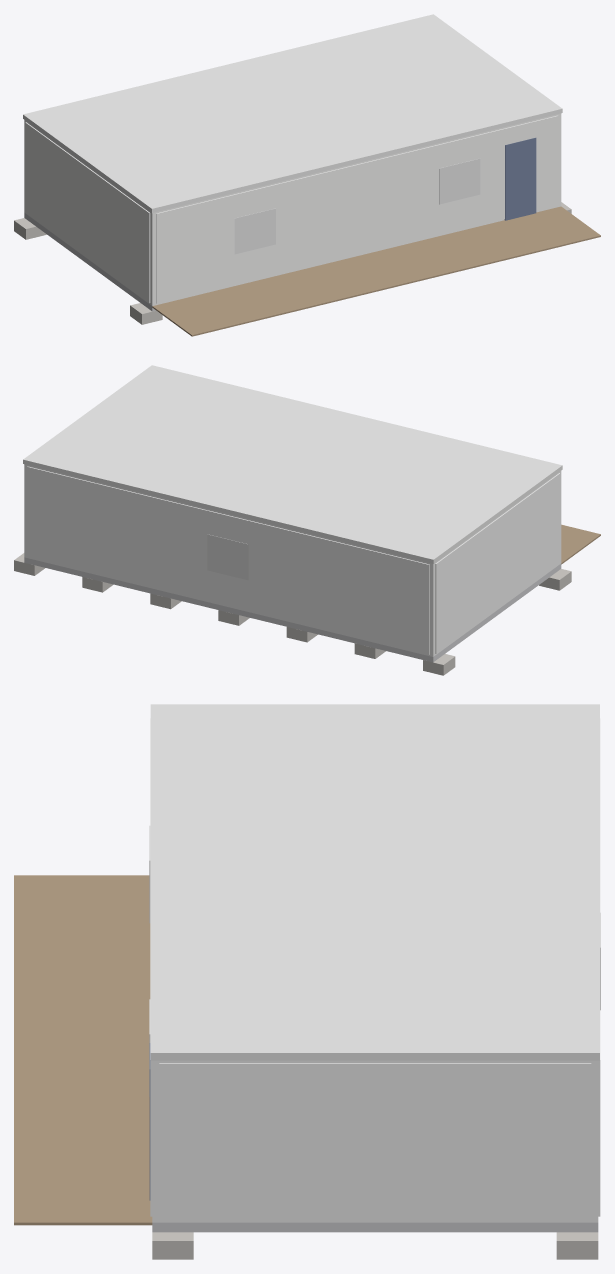
Rendered from Studio-40-TerraceDeck-LOD1.glb.
3 renders of one model, top to bottom at view 1: azimuth 30°, elevation 25°; view 2: azimuth 150°, elevation 25°; view 3: azimuth 270°, elevation 25°, orthographic. The views are drawn at different scales.
Parts seen in each view (by area): view 1: RoofMain, ExteriorPanelsStandard, TerraceDeck, WindowsStandard, ExteriorShell, EntryDoor, FoundationBlocks, BaseFrame; view 2: RoofMain, ExteriorPanelsStandard, BaseFrame, ExteriorShell, FoundationBlocks, WindowsStandard, TerraceDeck; view 3: RoofMain, ExteriorPanelsStandard, TerraceDeck, ExteriorShell, BaseFrame, FoundationBlocks.
Part boxes in pixels (x1=…): RoofMain: x1=23, y1=14, x2=562, y2=212; ExteriorPanelsStandard: x1=25, y1=115, x2=558, y2=303; TerraceDeck: x1=152, y1=206, x2=600, y2=336; WindowsStandard: x1=234, y1=158, x2=480, y2=254; ExteriorShell: x1=24, y1=113, x2=561, y2=305; EntryDoor: x1=504, y1=137, x2=536, y2=220; FoundationBlocks: x1=14, y1=202, x2=571, y2=324; BaseFrame: x1=24, y1=212, x2=155, y2=311; RoofMain: x1=23, y1=365, x2=562, y2=563; ExteriorPanelsStandard: x1=27, y1=466, x2=560, y2=654; BaseFrame: x1=24, y1=557, x2=561, y2=662; ExteriorShell: x1=24, y1=464, x2=561, y2=656; FoundationBlocks: x1=14, y1=553, x2=571, y2=675; WindowsStandard: x1=207, y1=534, x2=248, y2=580; TerraceDeck: x1=561, y1=524, x2=600, y2=564; RoofMain: x1=150, y1=704, x2=599, y2=1060; ExteriorPanelsStandard: x1=150, y1=718, x2=600, y2=1220; TerraceDeck: x1=14, y1=875, x2=152, y2=1225; ExteriorShell: x1=152, y1=1060, x2=598, y2=1222; BaseFrame: x1=152, y1=1222, x2=598, y2=1232; FoundationBlocks: x1=152, y1=1232, x2=598, y2=1259.
Bounding box in the file's own units: 12.49 × 3.17 × 8.49.
